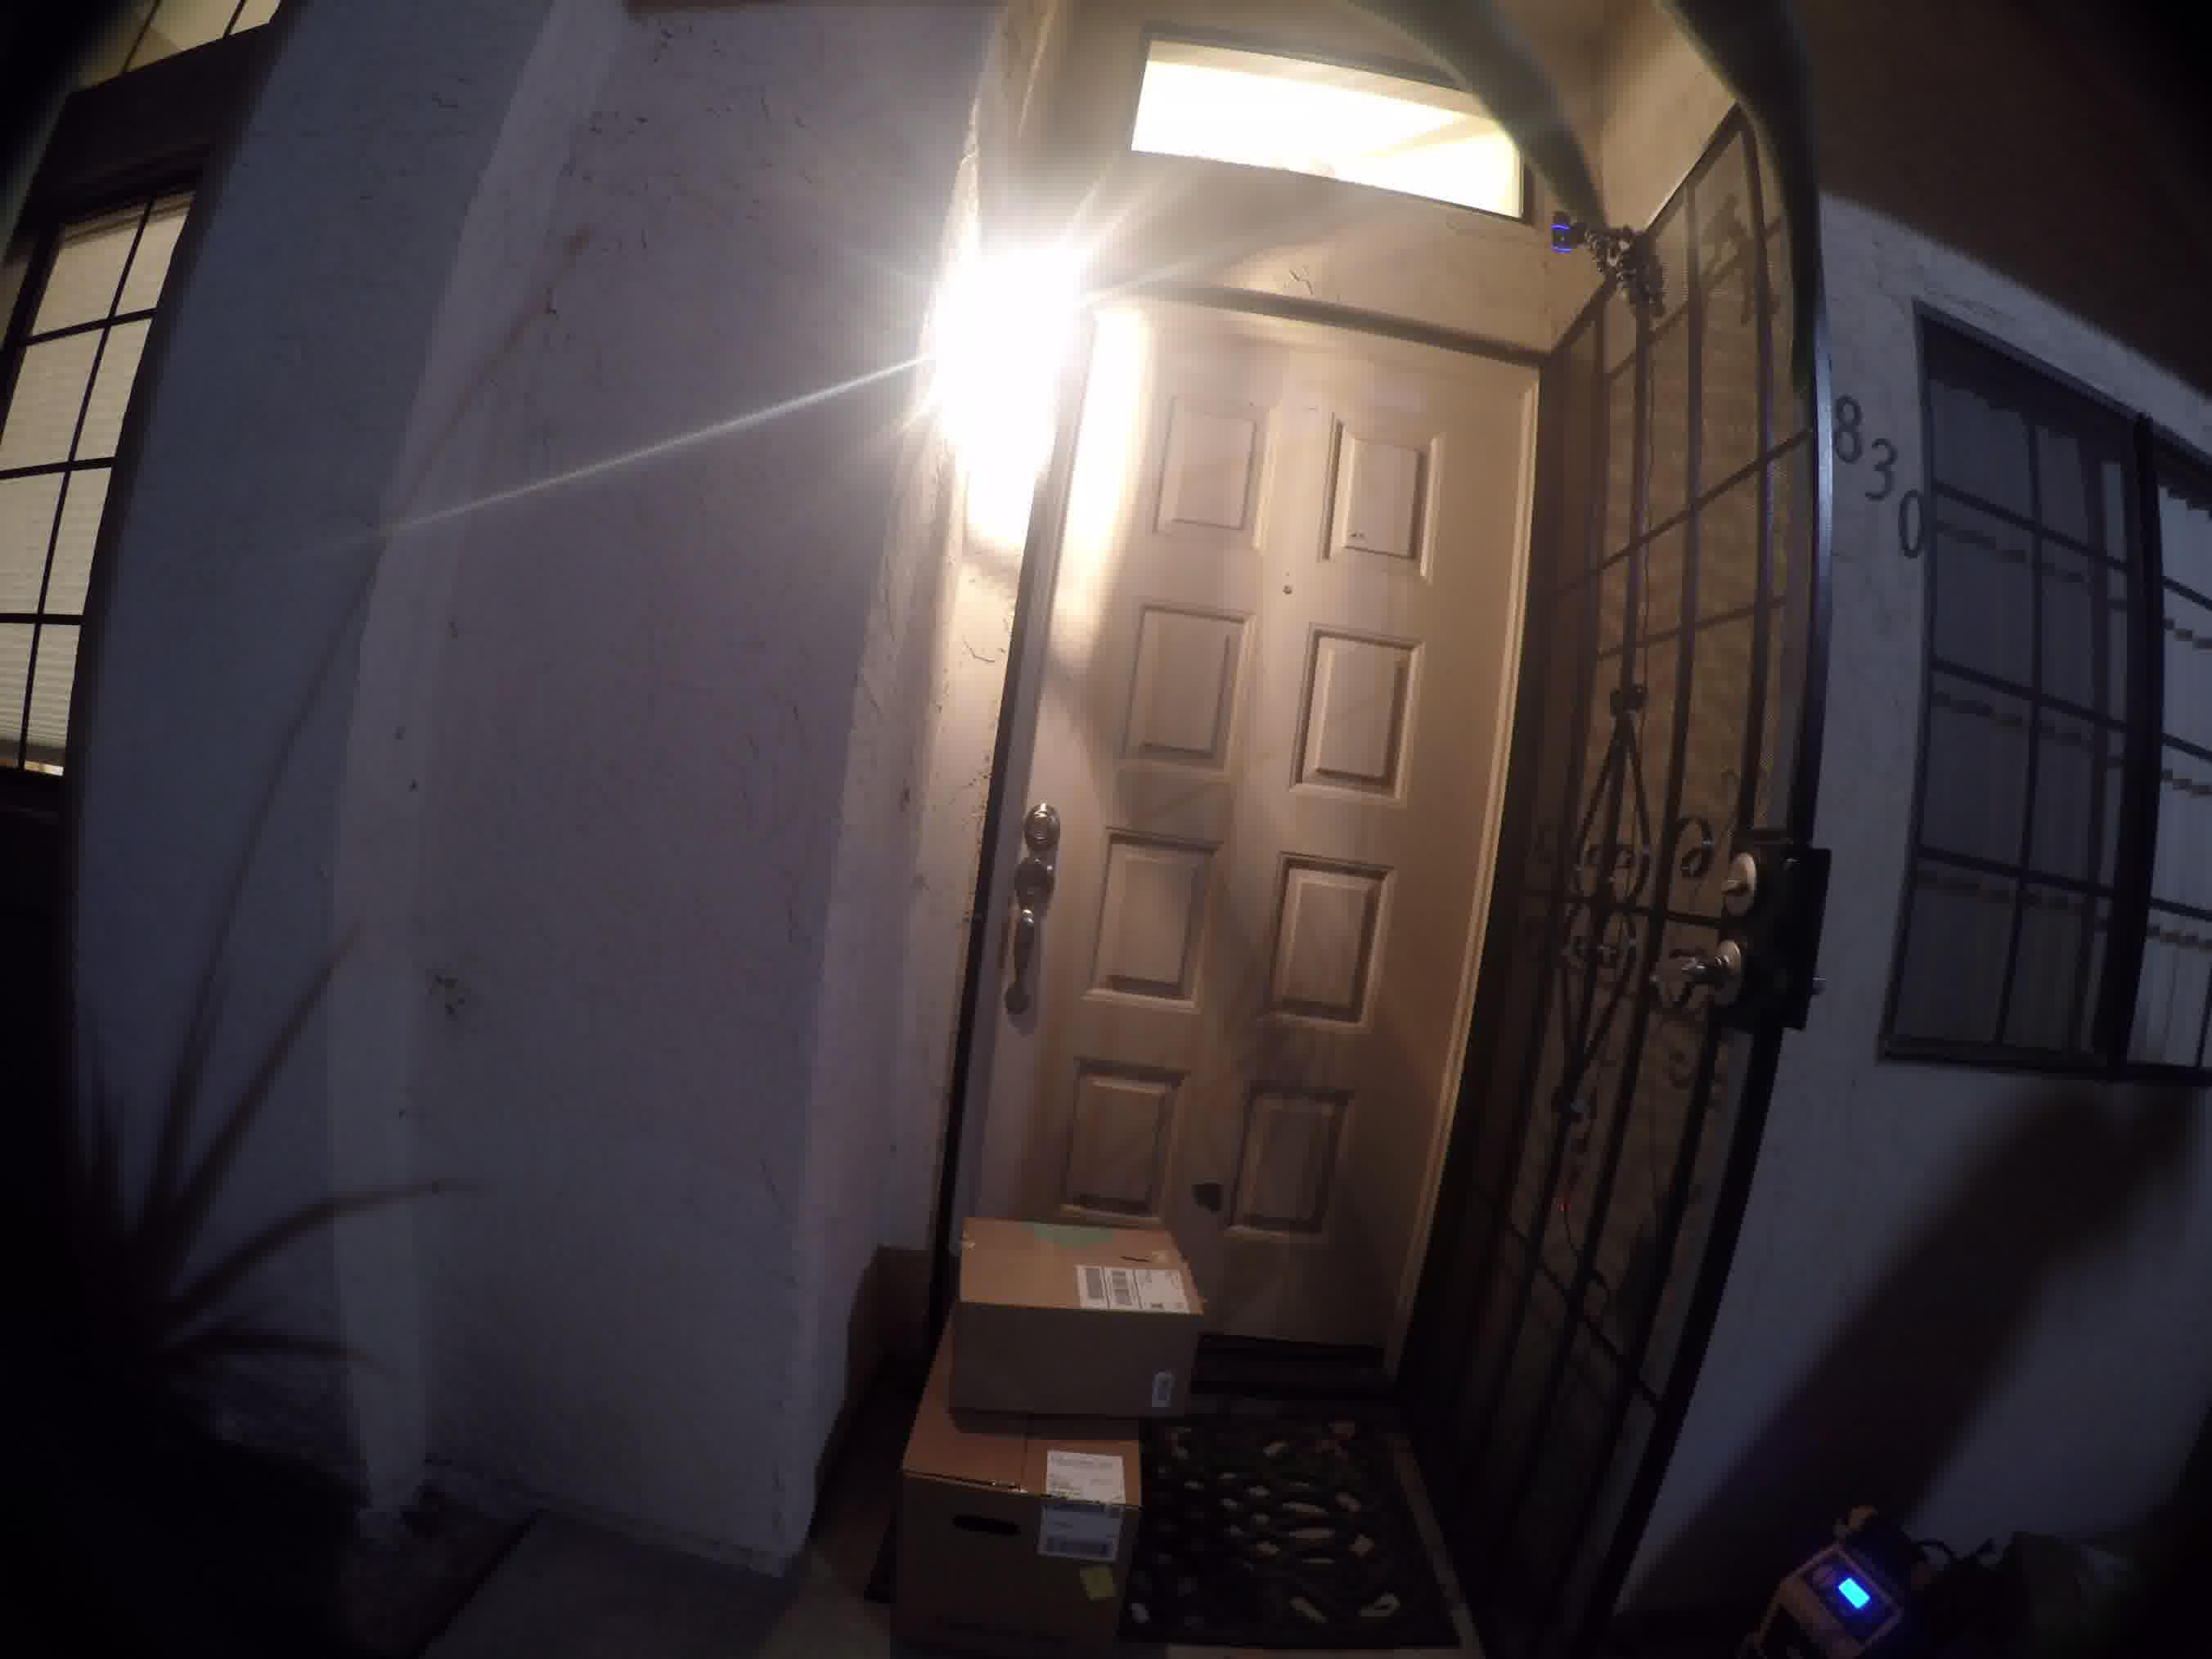box: (883, 1328, 1153, 1659), (942, 1202, 1214, 1445)
